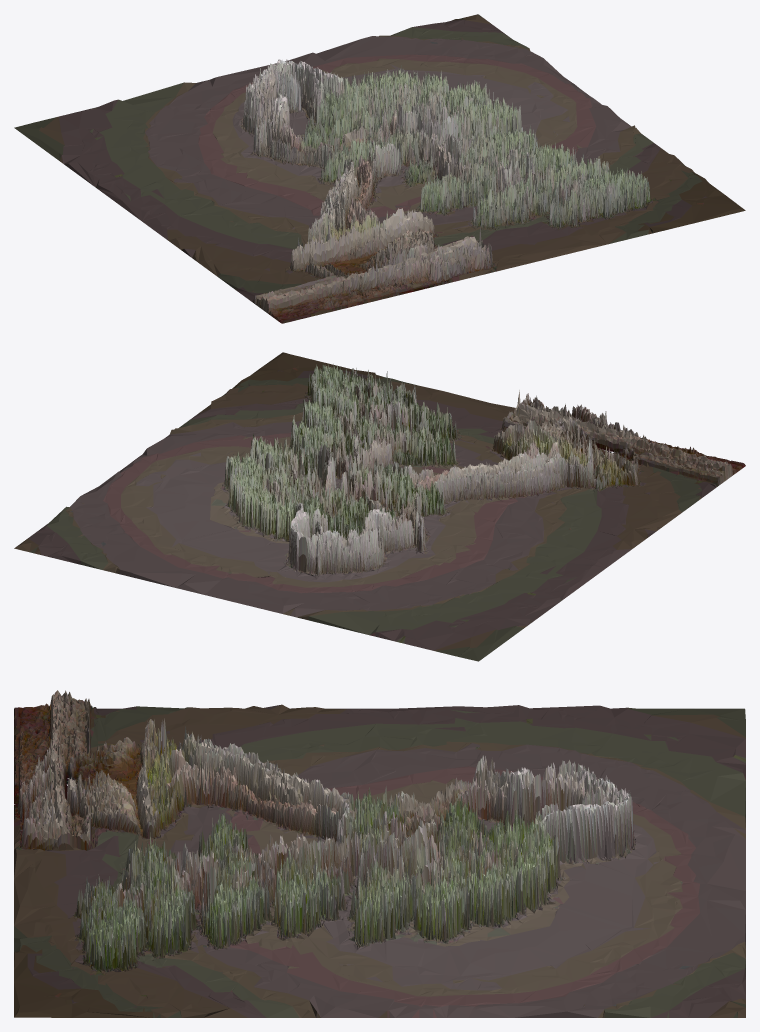
File: bonsai-side.glb
3 views of the same model, one above another, from view 1: azimuth 30°, elevation 25°; view 2: azimuth 150°, elevation 25°; view 3: azimuth 270°, elevation 25° (orthographic). The views are drawn at different scales.
Parts seen in each view (by area): view 1: Bonsai; view 2: Bonsai; view 3: Bonsai.
Part boxes in pixels (left/top/right/bottom): Bonsai: left=14, top=14, right=745, bottom=323; Bonsai: left=14, top=352, right=745, bottom=661; Bonsai: left=14, top=690, right=745, bottom=1017.
Size of the model in its own units: 100 by 9.76 by 100.
